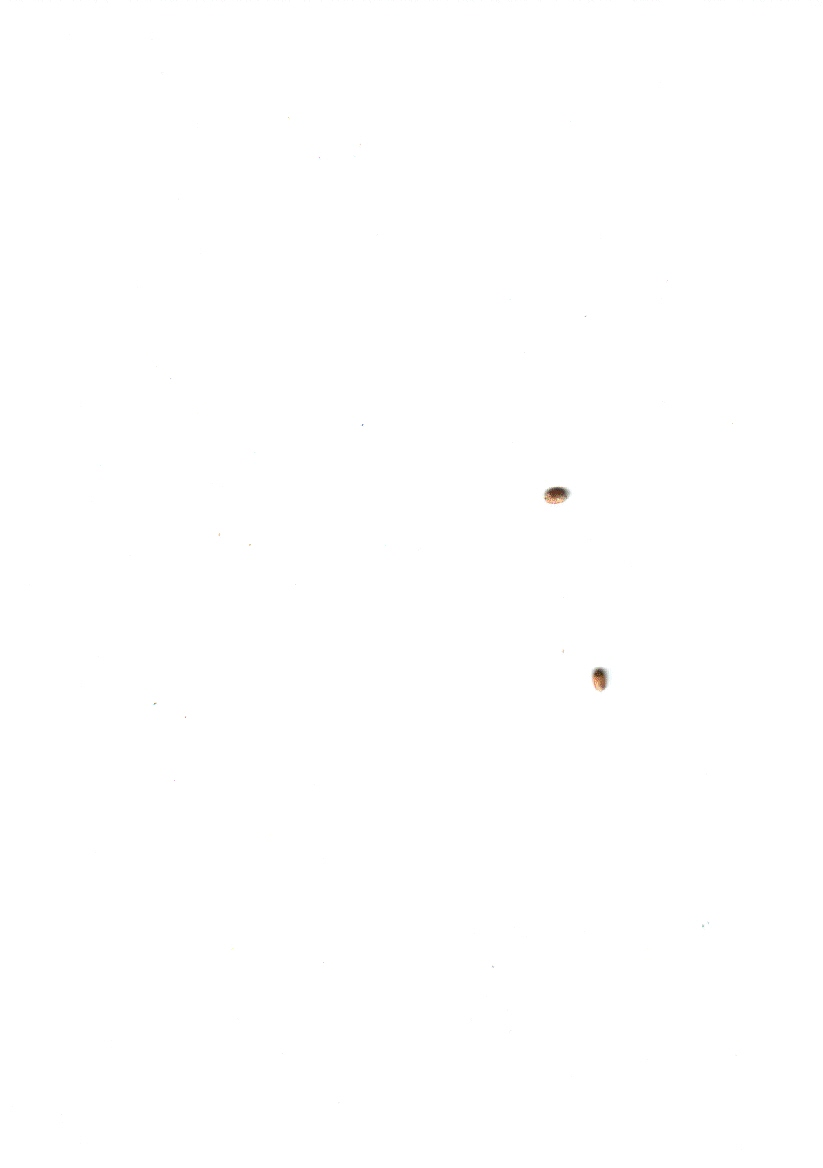grains: (531, 468, 581, 520), (572, 656, 624, 704)
